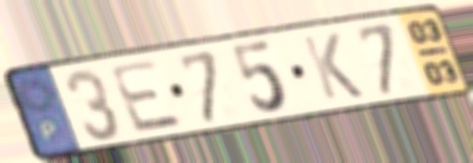3: (62, 66, 122, 144)
5: (228, 35, 295, 117)
7: (177, 47, 221, 125), (354, 19, 398, 97)
E: (105, 57, 189, 136)
K: (298, 30, 367, 103)
